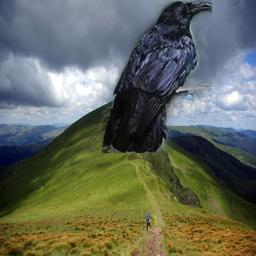Crow: (102, 0, 212, 153)
